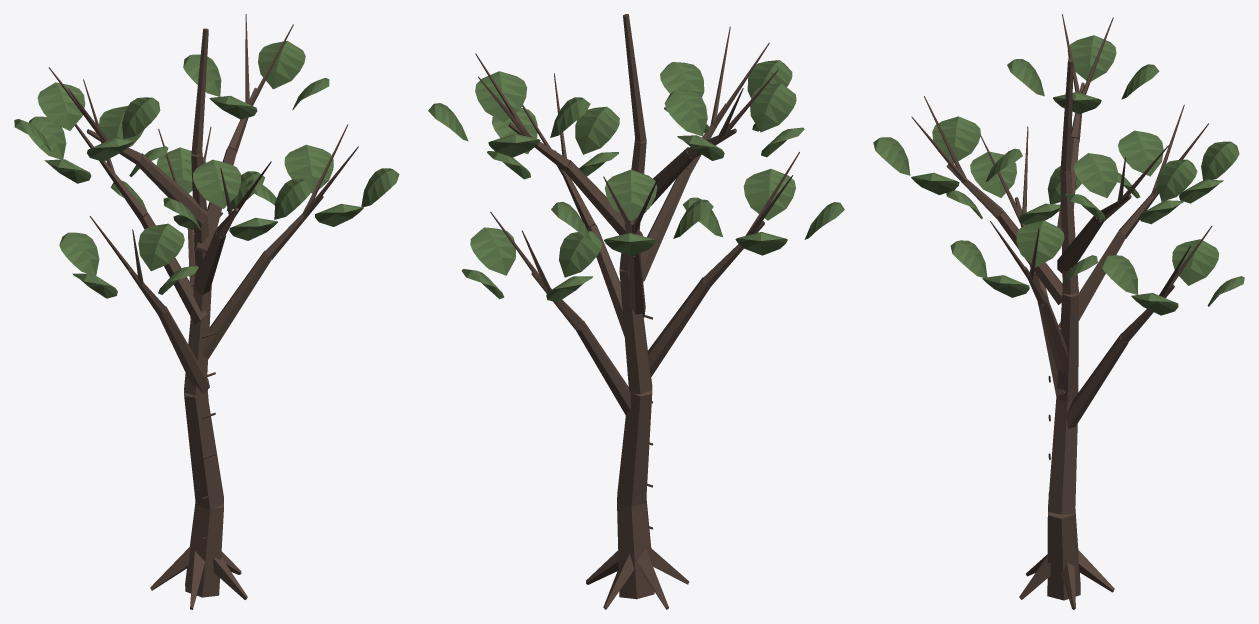
The model's file is persimmon_young.glb.
The picture shows the model from 3 angles, left to right: view 1: azimuth 30°, elevation 25°; view 2: azimuth 150°, elevation 25°; view 3: azimuth 270°, elevation 25°; orthographic projection. The views are drawn at different scales.
Visible parts, largest first — view 1: branches, leaves; view 2: branches, leaves; view 3: leaves, branches.
Part boxes in pixels (x1,y1,x2,y2): branches: [48, 14, 358, 609]; leaves: [14, 41, 399, 298]; branches: [475, 14, 799, 609]; leaves: [428, 60, 844, 302]; leaves: [873, 35, 1244, 315]; branches: [911, 14, 1212, 609].
Bounding box in the file's own units: 1 × 1.6 × 1.
